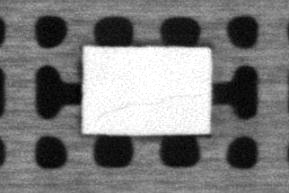DIE_CRACK: (93, 91, 205, 126)
